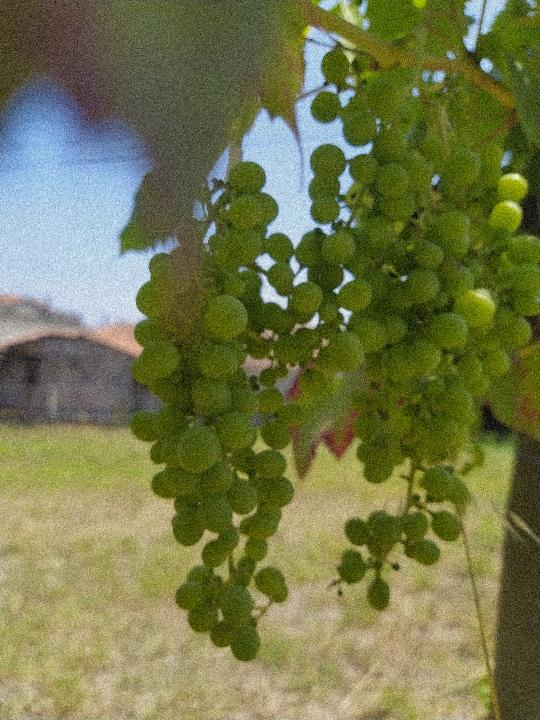grape: (295, 46, 533, 613), (128, 159, 298, 666)
